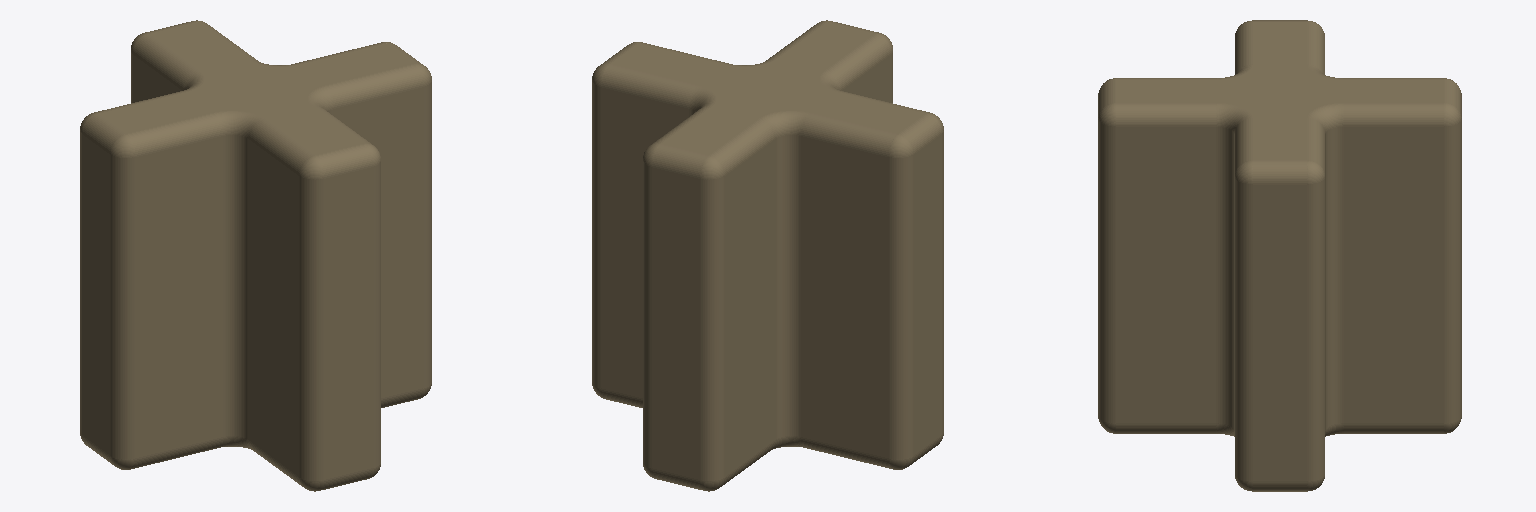
The robot description file, URDF, robot "cross":
<?xml version="1.0"?>
<robot name="cross">
  <link name="base_link">
    <visual>
      <origin xyz="0 0 0" rpy="0 0 0" />
      <geometry>
        <mesh filename="cross.obj" />      
      </geometry>
      <material name="tan">
        <color rgba="0.55 0.5 0.4 1" />
      </material>
    </visual>
    <collision>
      <origin xyz="0 0 0" rpy="0 0 0" />
      <geometry>
        <mesh filename="cross.obj" />
      </geometry>
    </collision>
  </link>
</robot>

--- Render facts (derived) ---
The picture shows the robot from 3 angles, left to right: view 1: azimuth 30°, elevation 25°; view 2: azimuth 150°, elevation 25°; view 3: azimuth 270°, elevation 25°; orthographic projection.
Robot: cross — 1 links, 0 joints (none); root link base_link; default pose: every joint at zero.
Links seen in each view (by area): view 1: base_link; view 2: base_link; view 3: base_link.
Link boxes in pixels (x1=…): base_link: x1=80, y1=20, x2=431, y2=491; base_link: x1=592, y1=20, x2=943, y2=491; base_link: x1=1098, y1=20, x2=1461, y2=491.
Bounding box of the posed robot: 25.4 × 25.4 × 25.4 m (x, y, z).
Meshes: 1 distinct files referenced, 1 mesh visuals loaded (1 OBJ).
